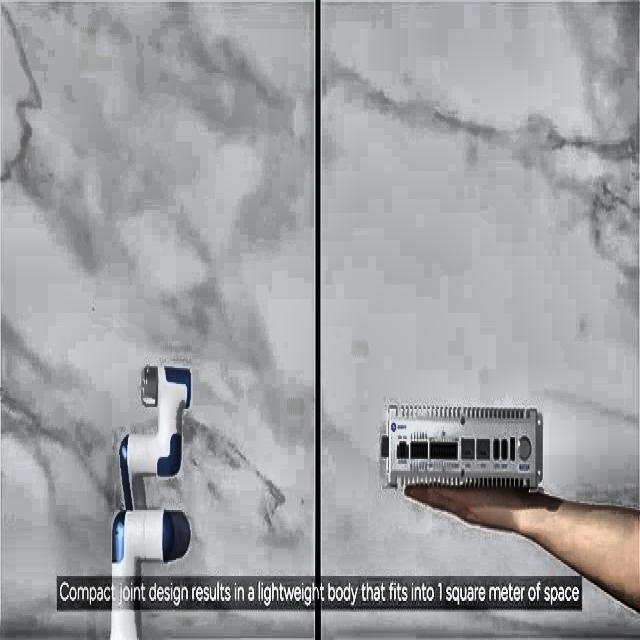robot: (108, 362, 192, 636)
